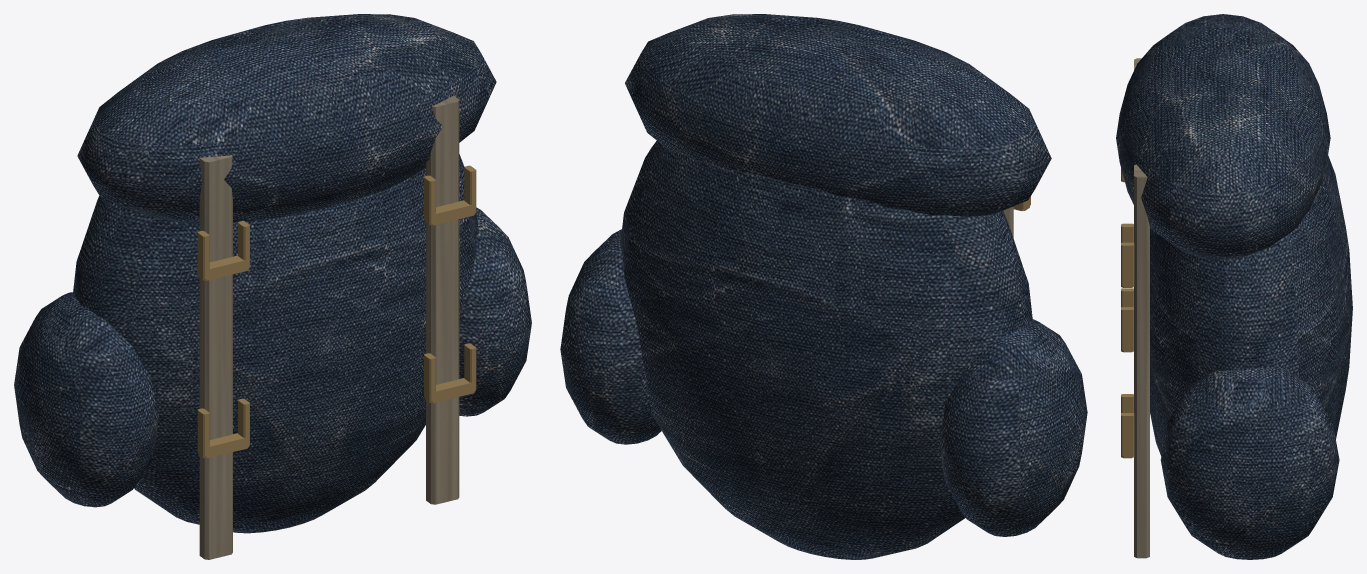
File: fisher_backpack.glb
3 views of the same model, side by side, from view 1: azimuth 30°, elevation 25°; view 2: azimuth 150°, elevation 25°; view 3: azimuth 270°, elevation 25° (orthographic). The views are drawn at different scales.
Visible parts, largest first — view 1: Waxed canvas backpack, Leather backpack straps, Brass backpack hardware; view 2: Waxed canvas backpack; view 3: Waxed canvas backpack, Leather backpack straps, Brass backpack hardware.
Boxes of the visible parts, left/top/right/bottom form: Waxed canvas backpack: left=14, top=14, right=531, bottom=533; Leather backpack straps: left=199, top=96, right=459, bottom=559; Brass backpack hardware: left=197, top=165, right=476, bottom=458; Waxed canvas backpack: left=560, top=14, right=1087, bottom=559; Waxed canvas backpack: left=1116, top=14, right=1352, bottom=559; Leather backpack straps: left=1134, top=58, right=1149, bottom=558; Brass backpack hardware: left=1121, top=168, right=1134, bottom=458.
Bounding box in the file's own units: 0.6 × 0.59 × 0.265.
3 materials, 2 textured.
